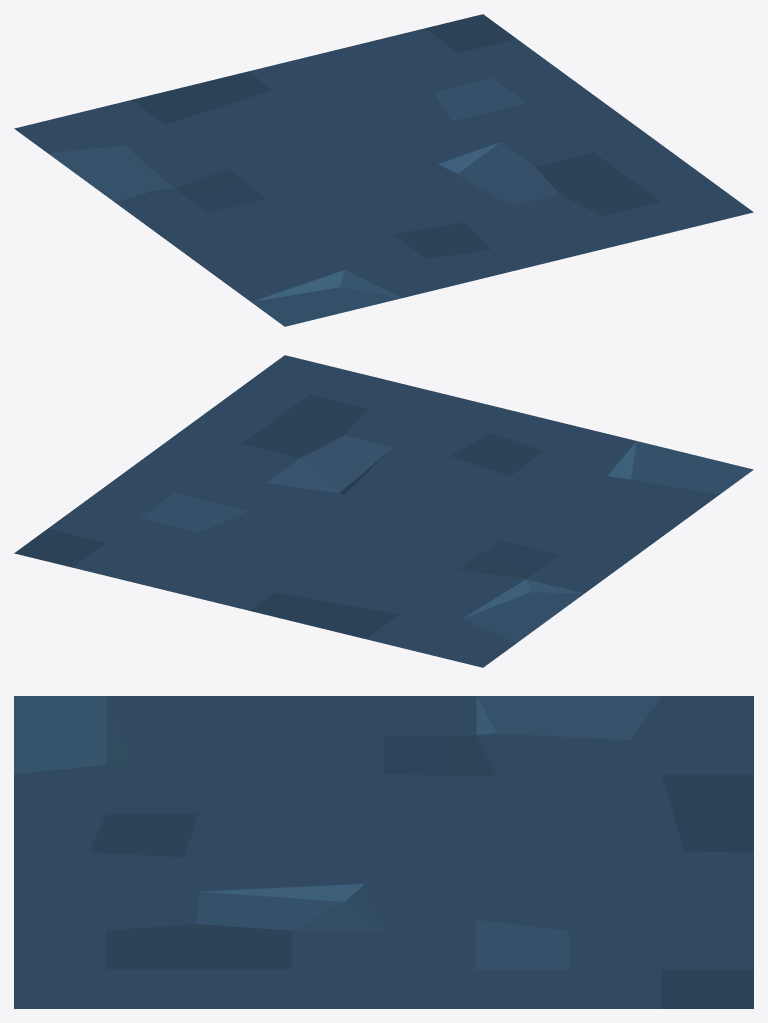
Rendered from wall_4m_bottom.fbx.
3 renders of one model, top to bottom at view 1: azimuth 30°, elevation 25°; view 2: azimuth 150°, elevation 25°; view 3: azimuth 270°, elevation 25°, orthographic. The views are drawn at different scales.
Parts seen in each view (by area): view 1: wall_4m_bottom; view 2: wall_4m_bottom; view 3: wall_4m_bottom.
Boxes of the visible parts, box(x1,y1,x2,y2) form: wall_4m_bottom: box(14, 14, 753, 326); wall_4m_bottom: box(14, 355, 753, 667); wall_4m_bottom: box(14, 696, 753, 1008).
Bounding box in the file's own units: 400 × 5.81 × 400.
